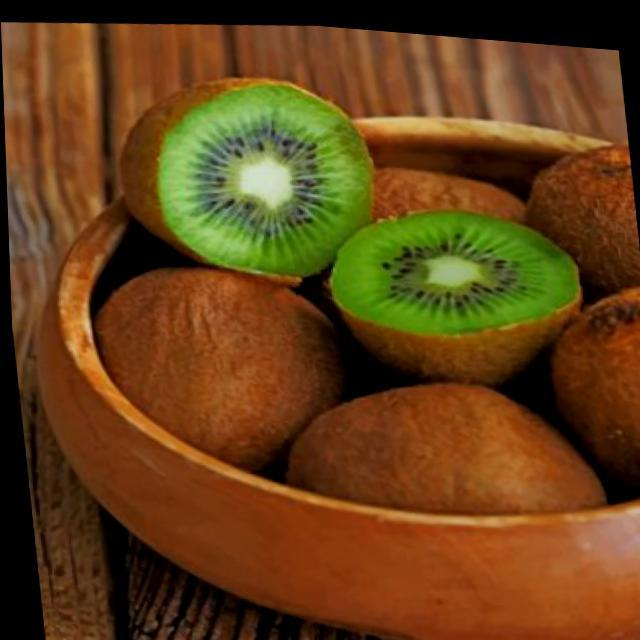kiwi: (73, 249, 337, 475), (293, 354, 610, 523), (497, 110, 640, 287), (560, 277, 640, 463)
